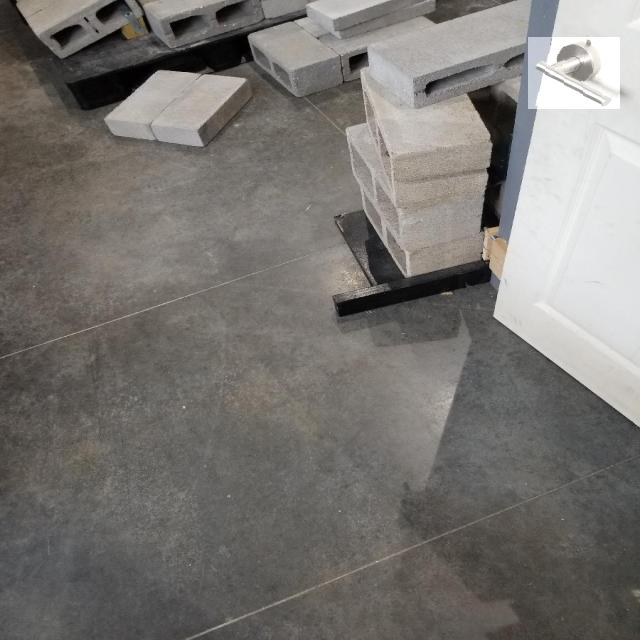doorhandle: (528, 37, 620, 109)
